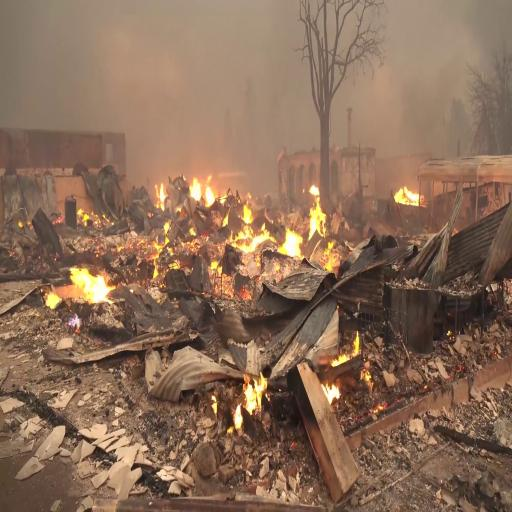fire: (276, 196, 332, 264), (60, 260, 116, 302), (399, 185, 425, 220)
smoke: (0, 0, 193, 110), (195, 0, 307, 134), (391, 23, 443, 130)
